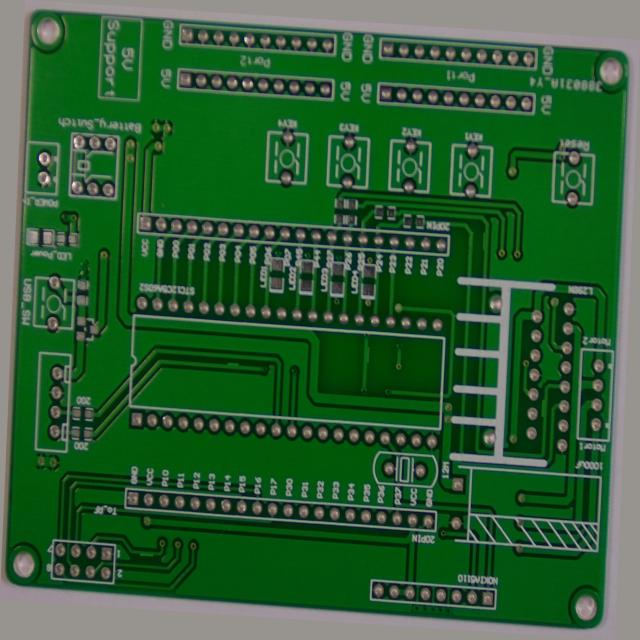spur: (362, 342, 377, 365), (481, 209, 492, 239), (139, 574, 160, 589), (222, 365, 240, 380), (551, 384, 560, 414)
